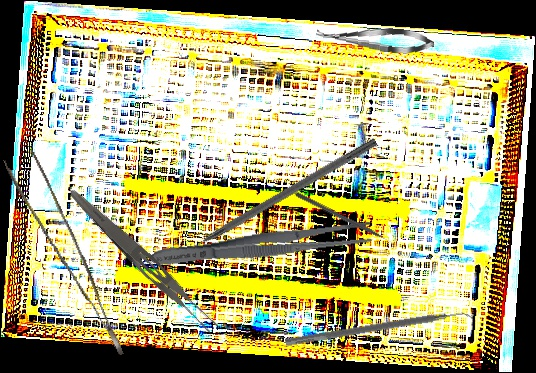Dressing Forceps: (60, 184, 225, 340), (148, 217, 373, 273)
Hook Surgical: (171, 135, 379, 263)
Micro Scissor: (315, 21, 435, 57)
Pusher: (293, 191, 400, 249)
Spatula Surgical: (285, 305, 474, 355)
Tissue Forceps: (3, 144, 124, 370)
